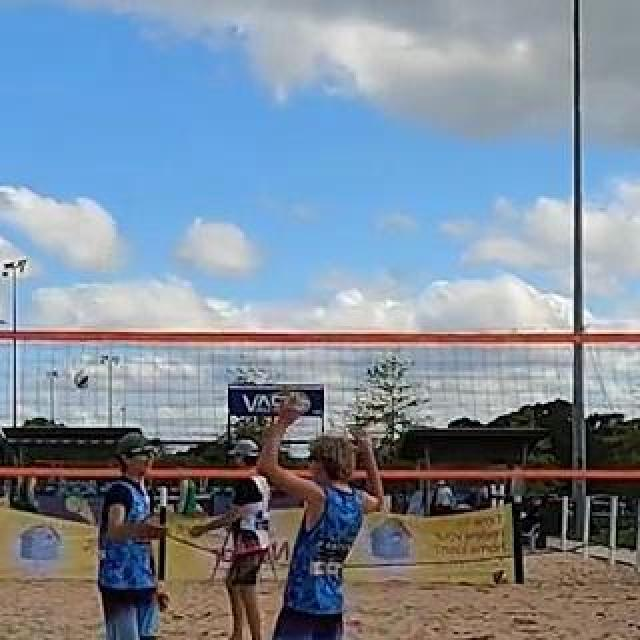volleyball: (75, 371, 91, 389), (494, 569, 508, 585)
